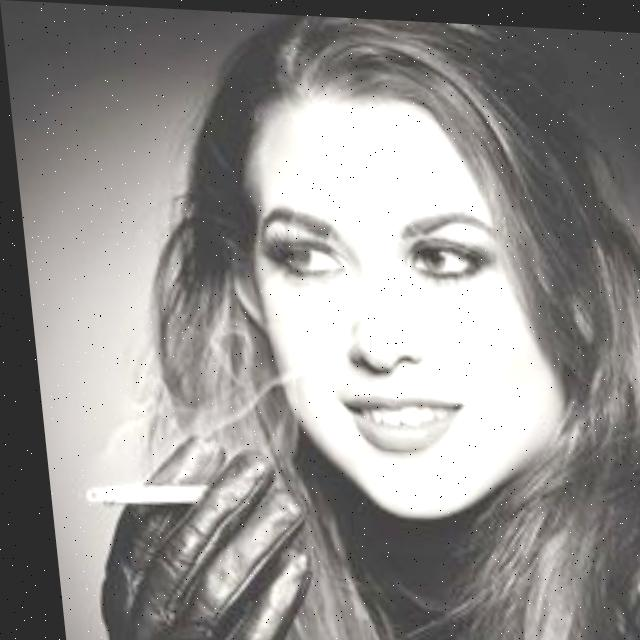cigarette: (72, 478, 204, 508)
